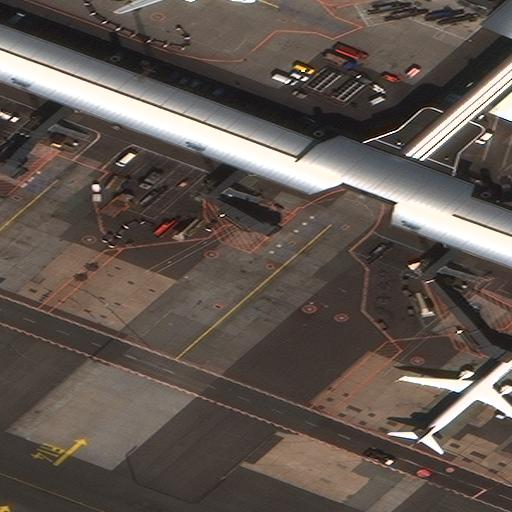Medium Civil Transport: (402, 349, 512, 444)
